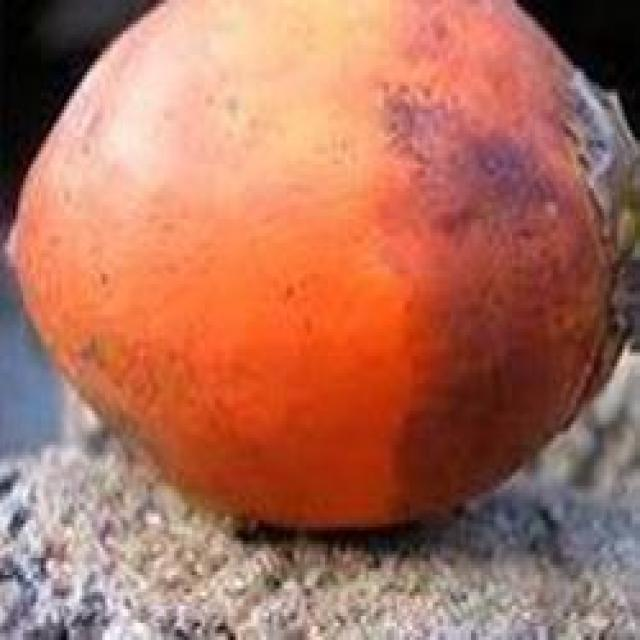good: (8, 0, 637, 541)
